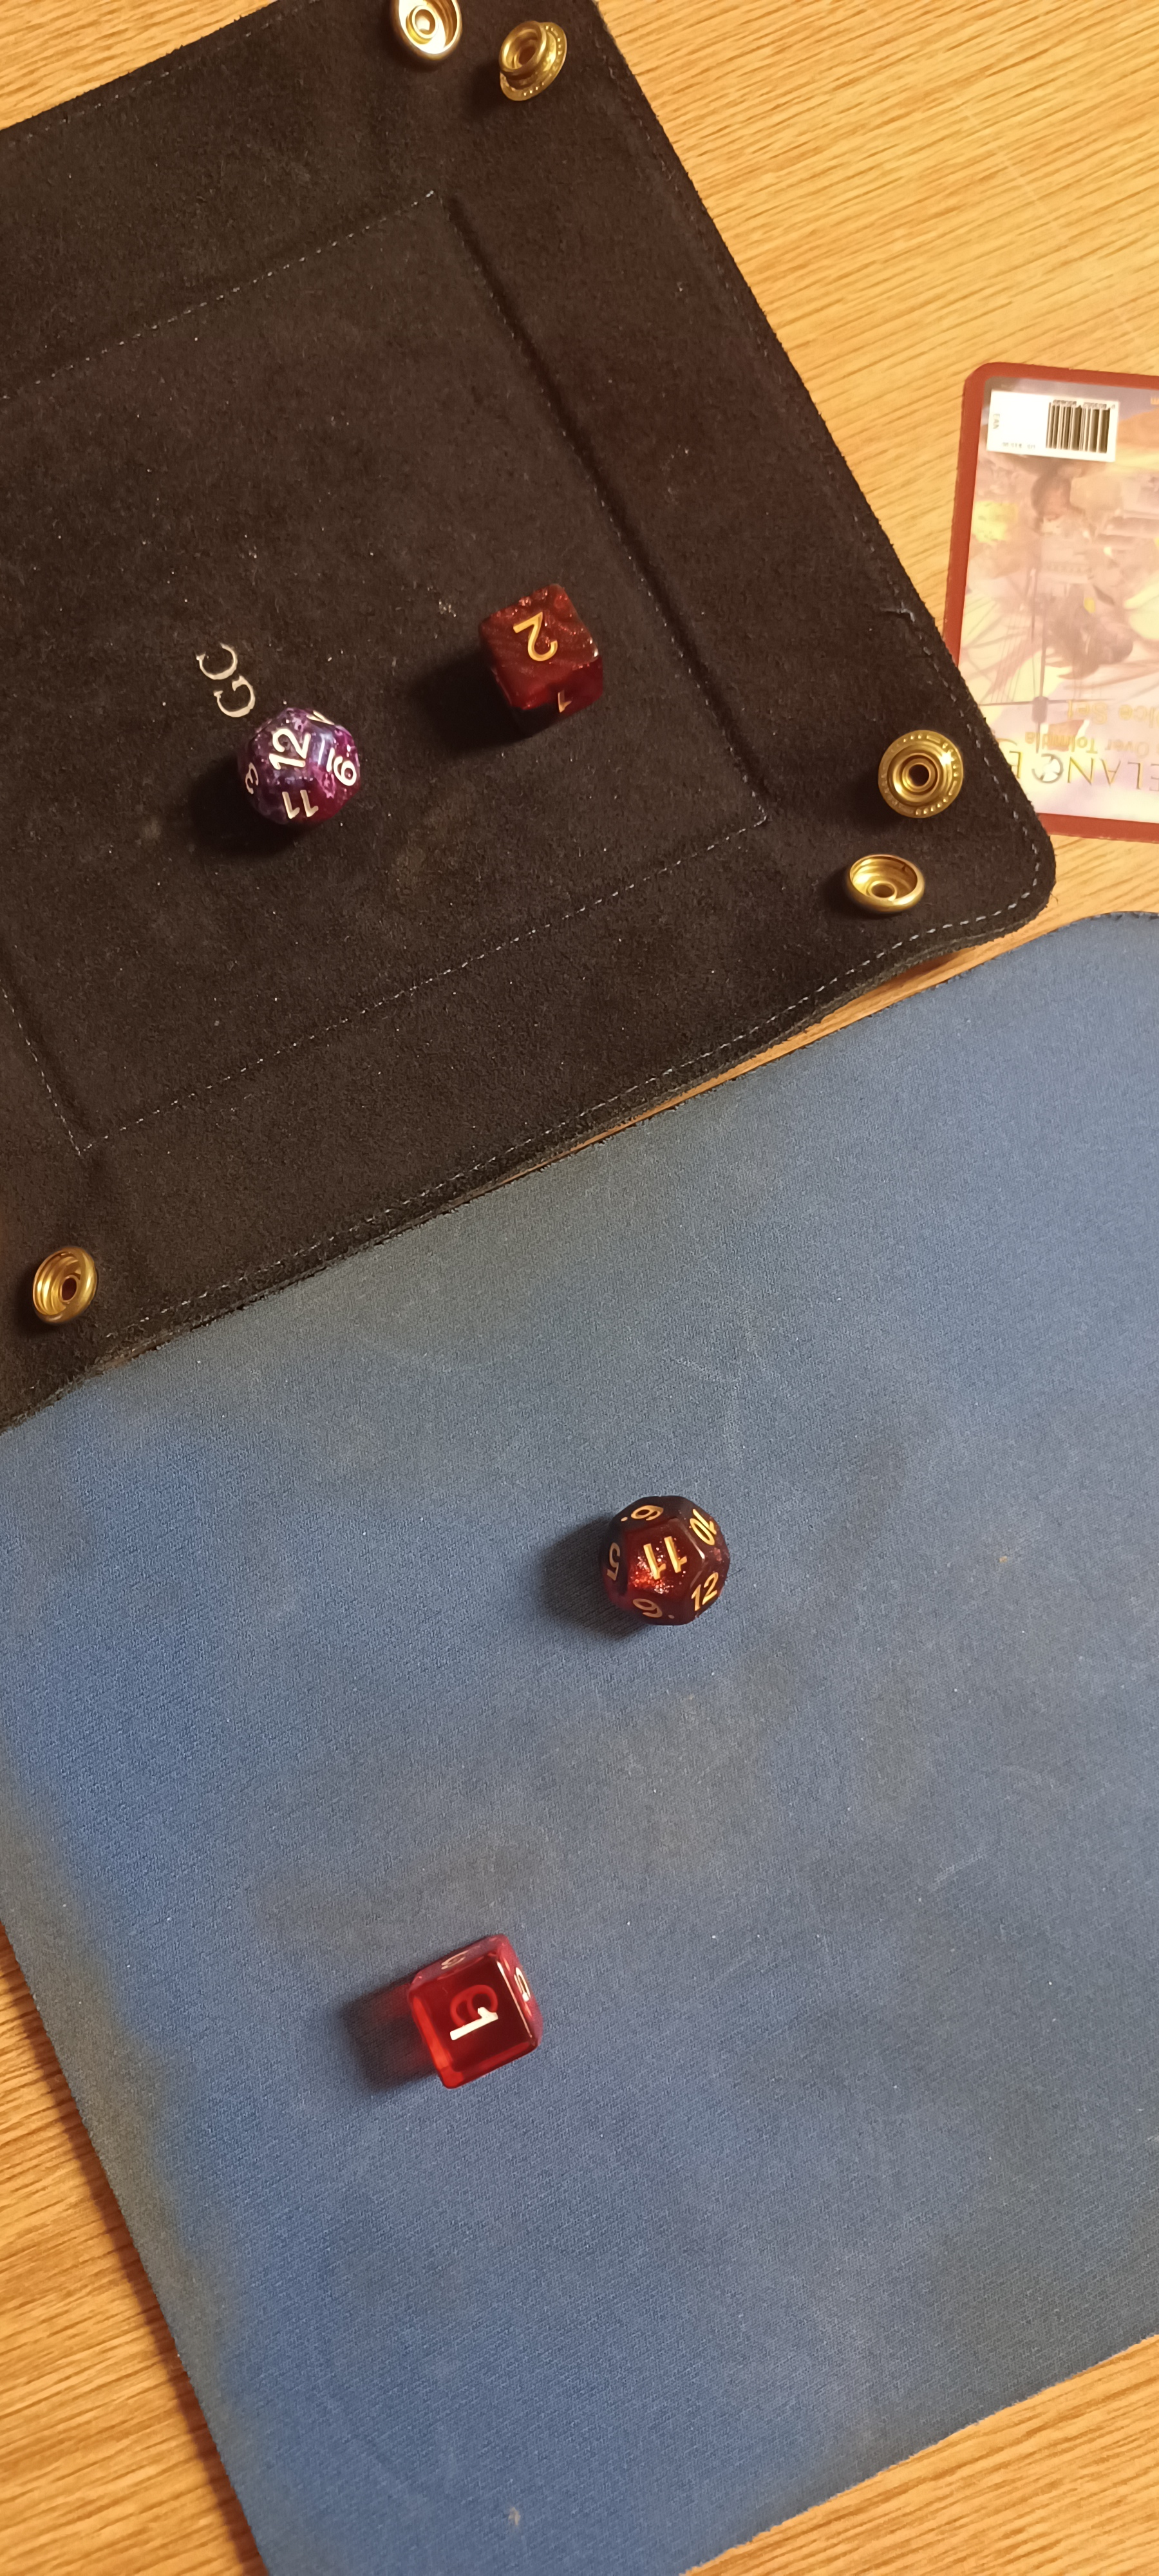eleven: (565, 1470, 770, 1654)
one: (356, 1898, 583, 2123)
twelve: (217, 674, 396, 864)
two: (466, 565, 634, 739)
